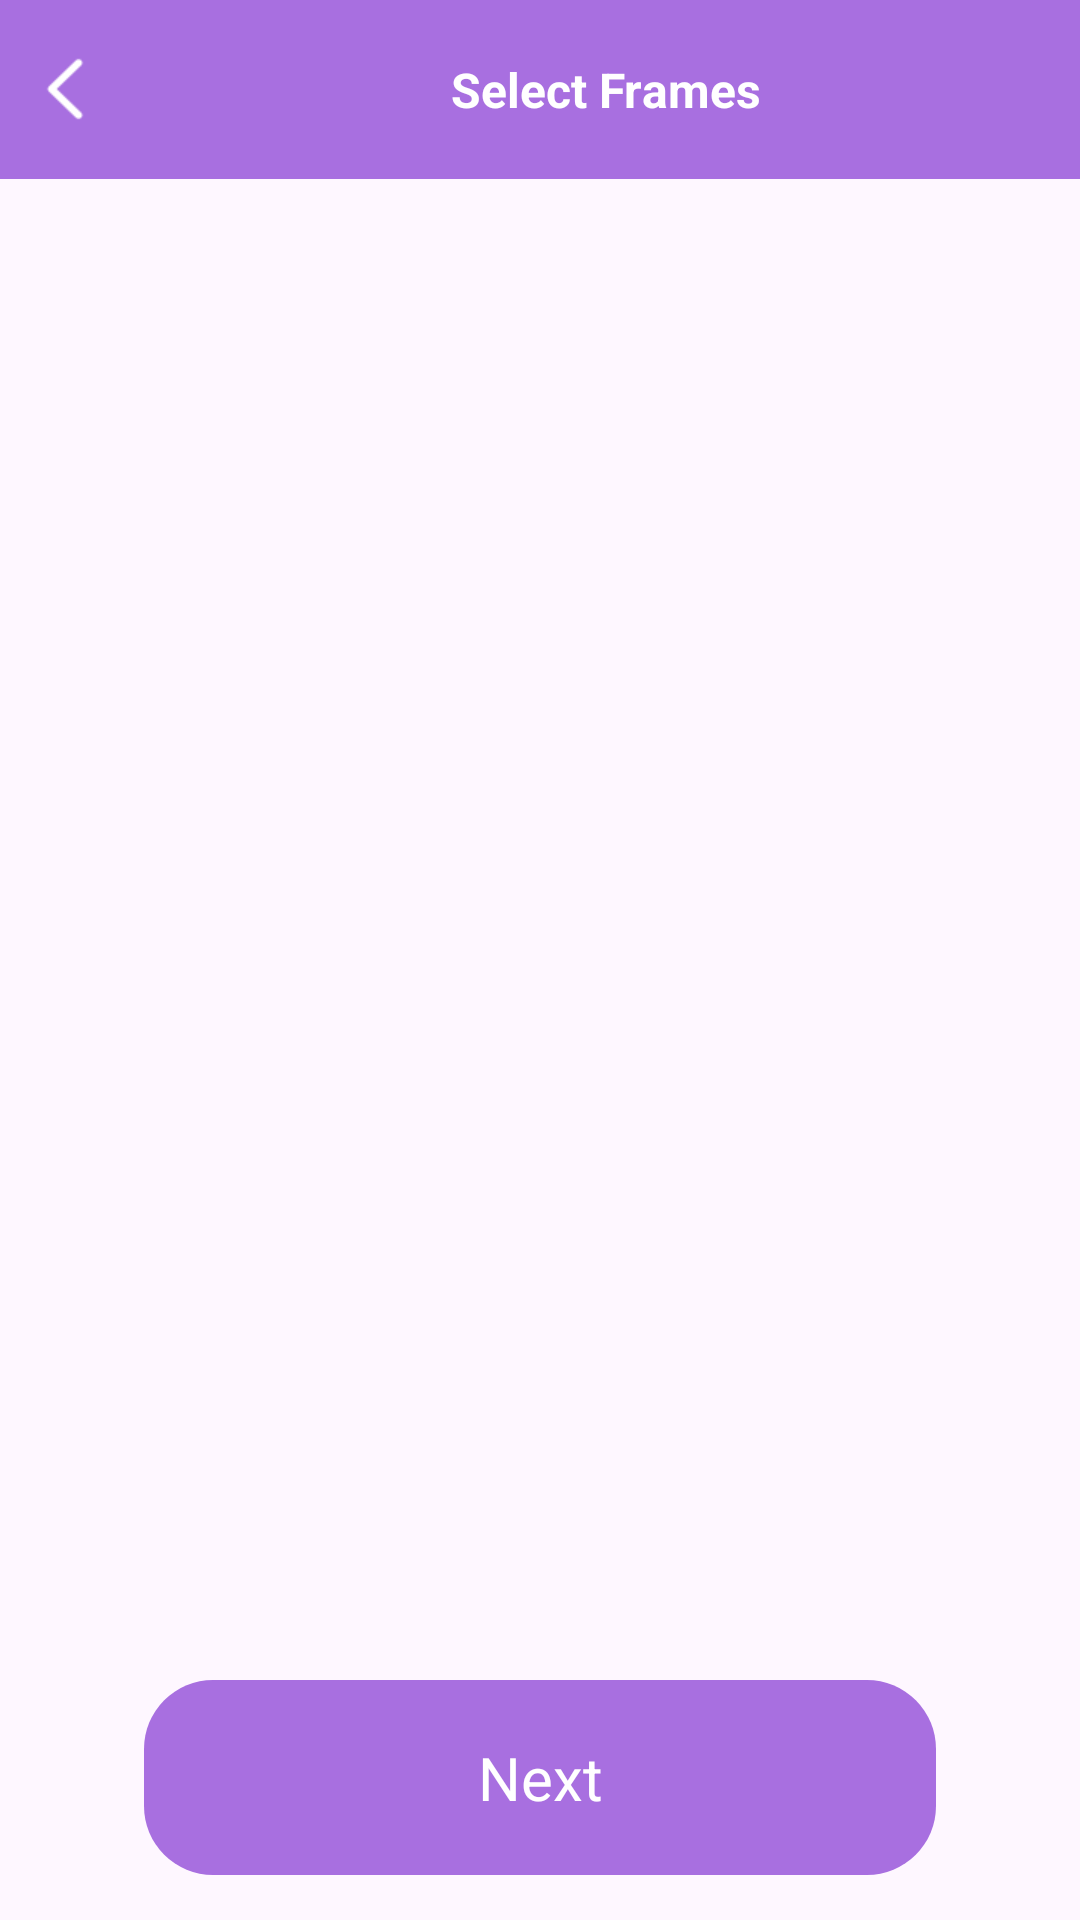

Where to tap for icons on this 1080px x 1920px app screen, as [x,y]:
back: [65,89]
